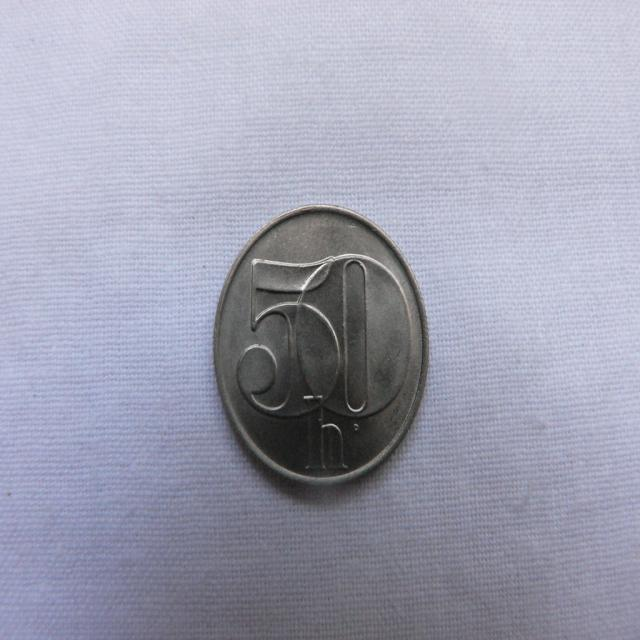Coin: (215, 201, 430, 487)
